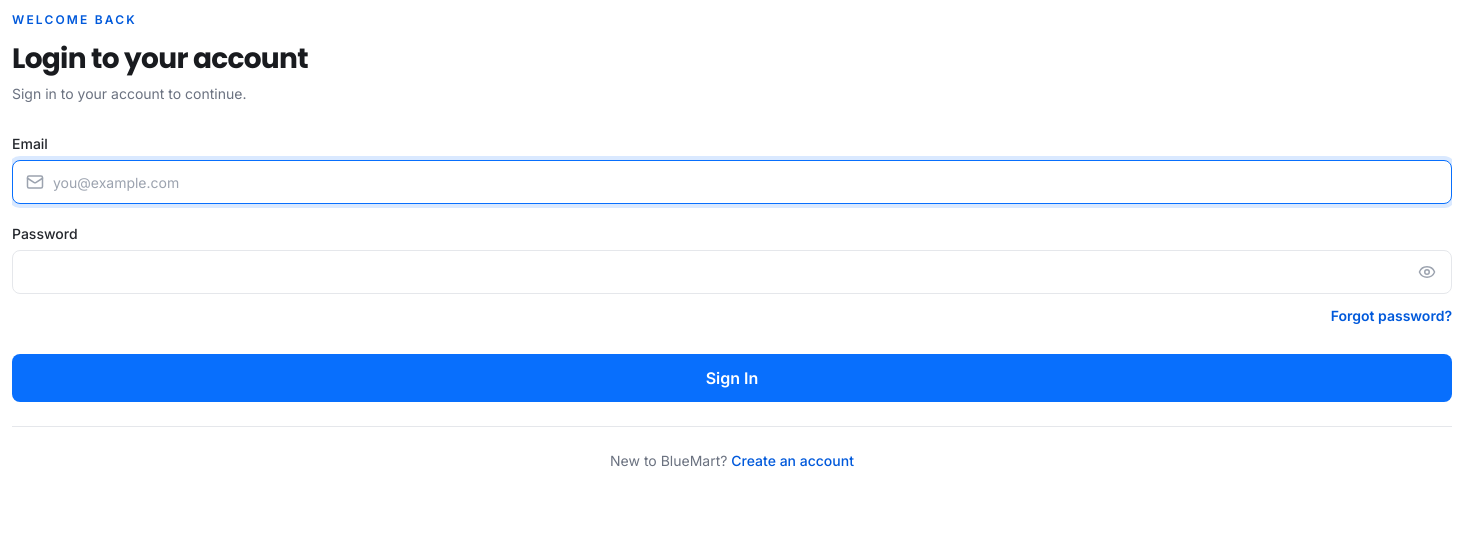
Test: LoginPage › shows an alert when the credentials are wrong
The width and height of the screenshot is (1464, 553).
Type "jane@example.com" into the field labelled "Email".
click(732, 182); type("jane@example.com")  # box [12,160,1452,204]
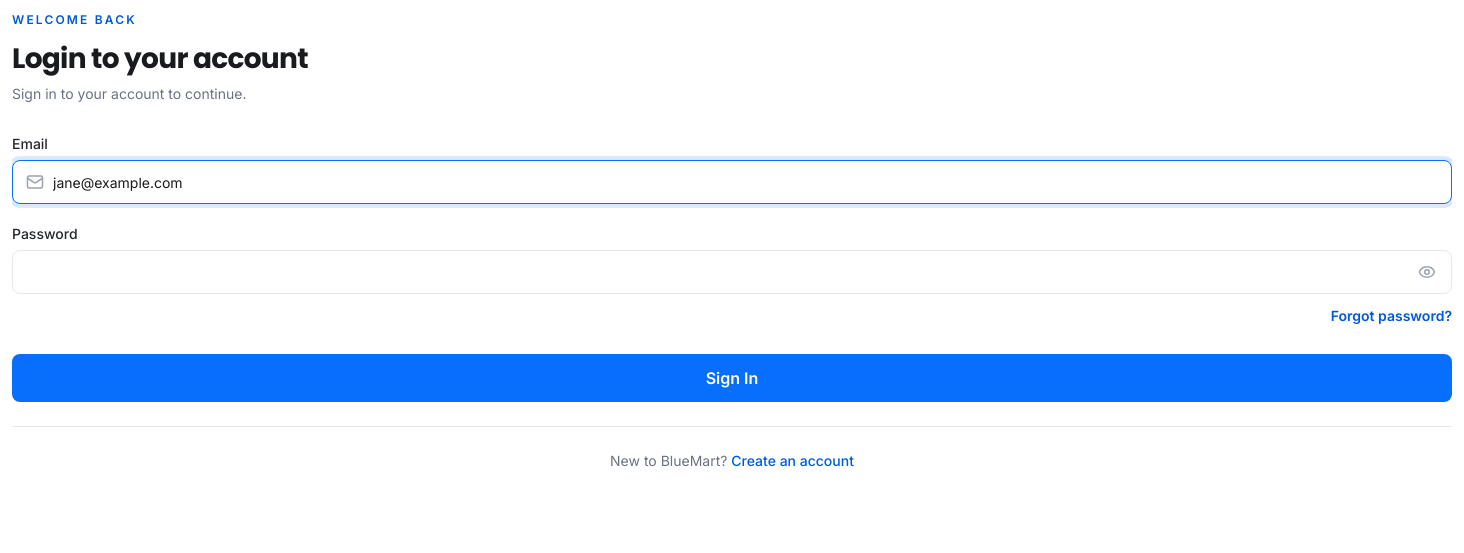
Type "wrong-password" into the password field labelled "Password".
click(732, 272); type("wrong-password")  # box [12,250,1452,294]
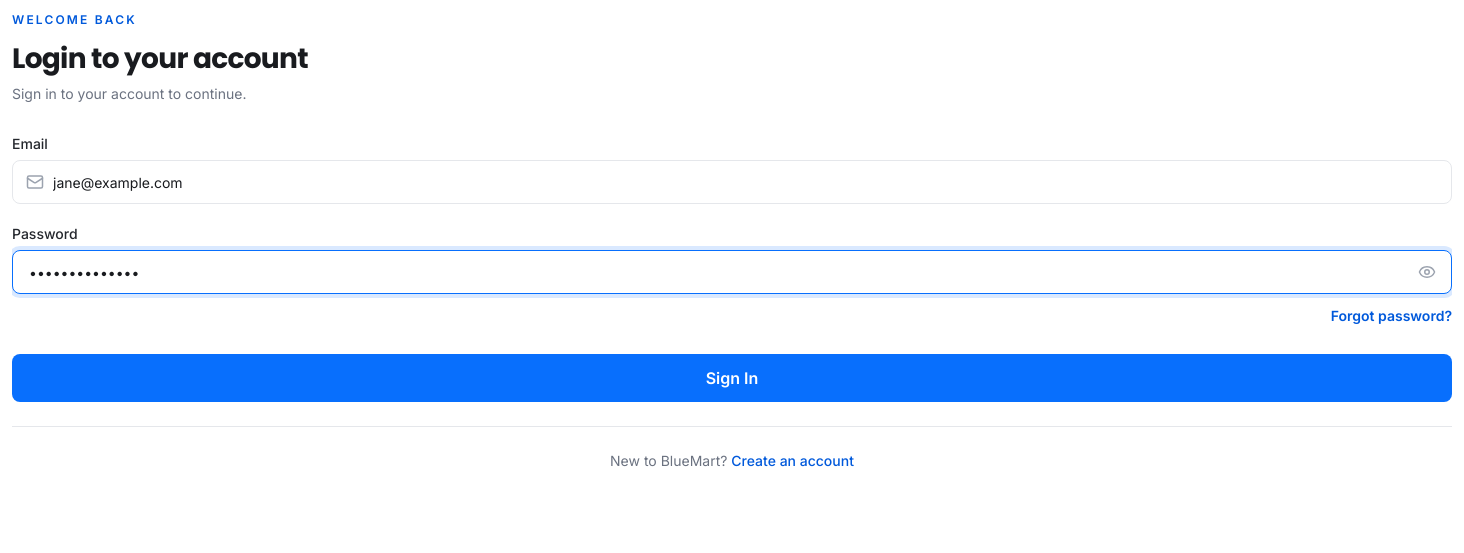
Click the button "Sign In".
click(732, 378)  # box [12,354,1452,402]
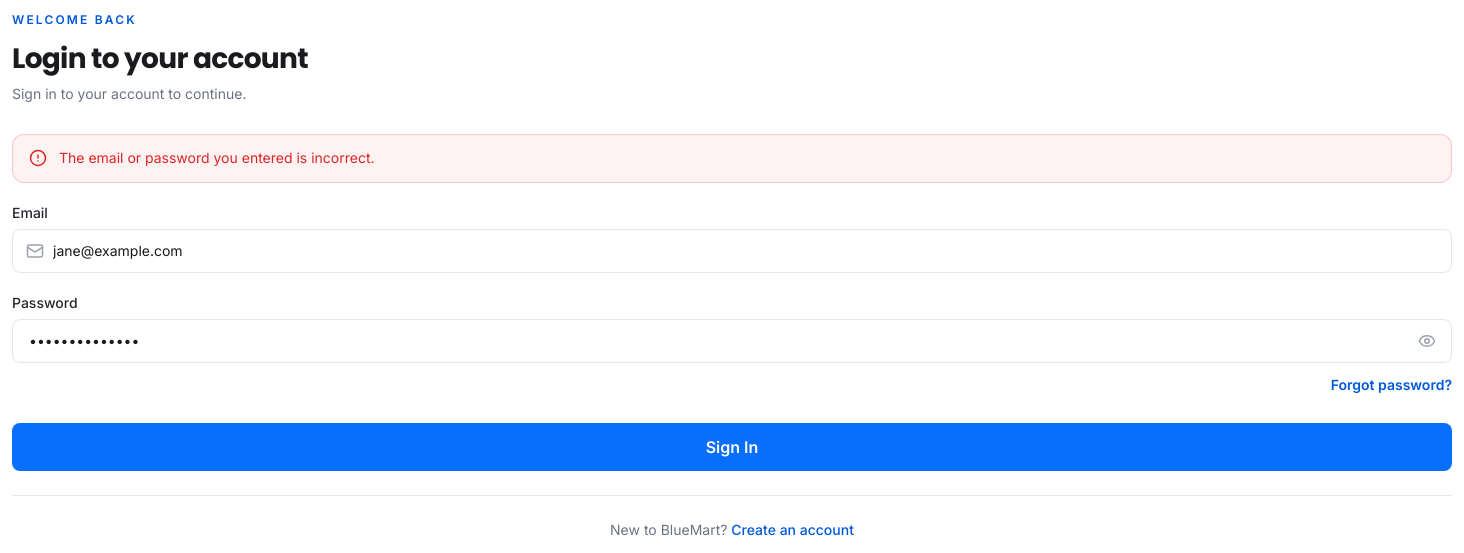
Check: the button "Sign In" is enabled, box [12,423,1452,471]
Check: the message reads "The email or password you entered is incorrect.", box [59,149,374,166]
